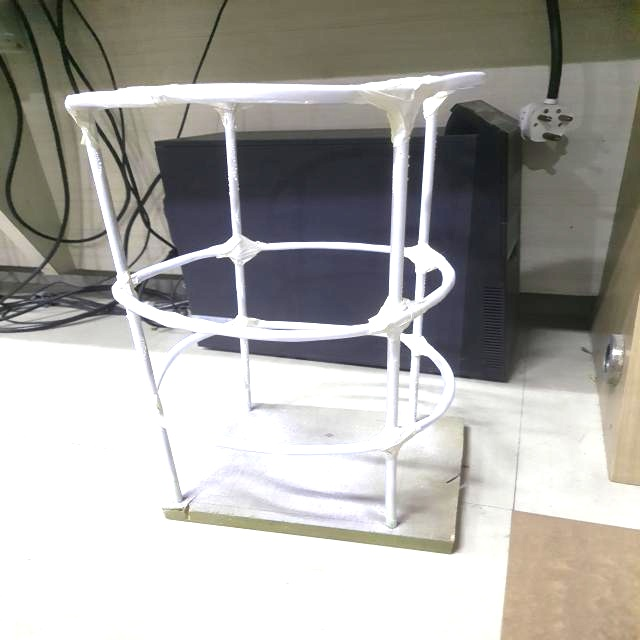silo: (67, 68, 452, 514)
